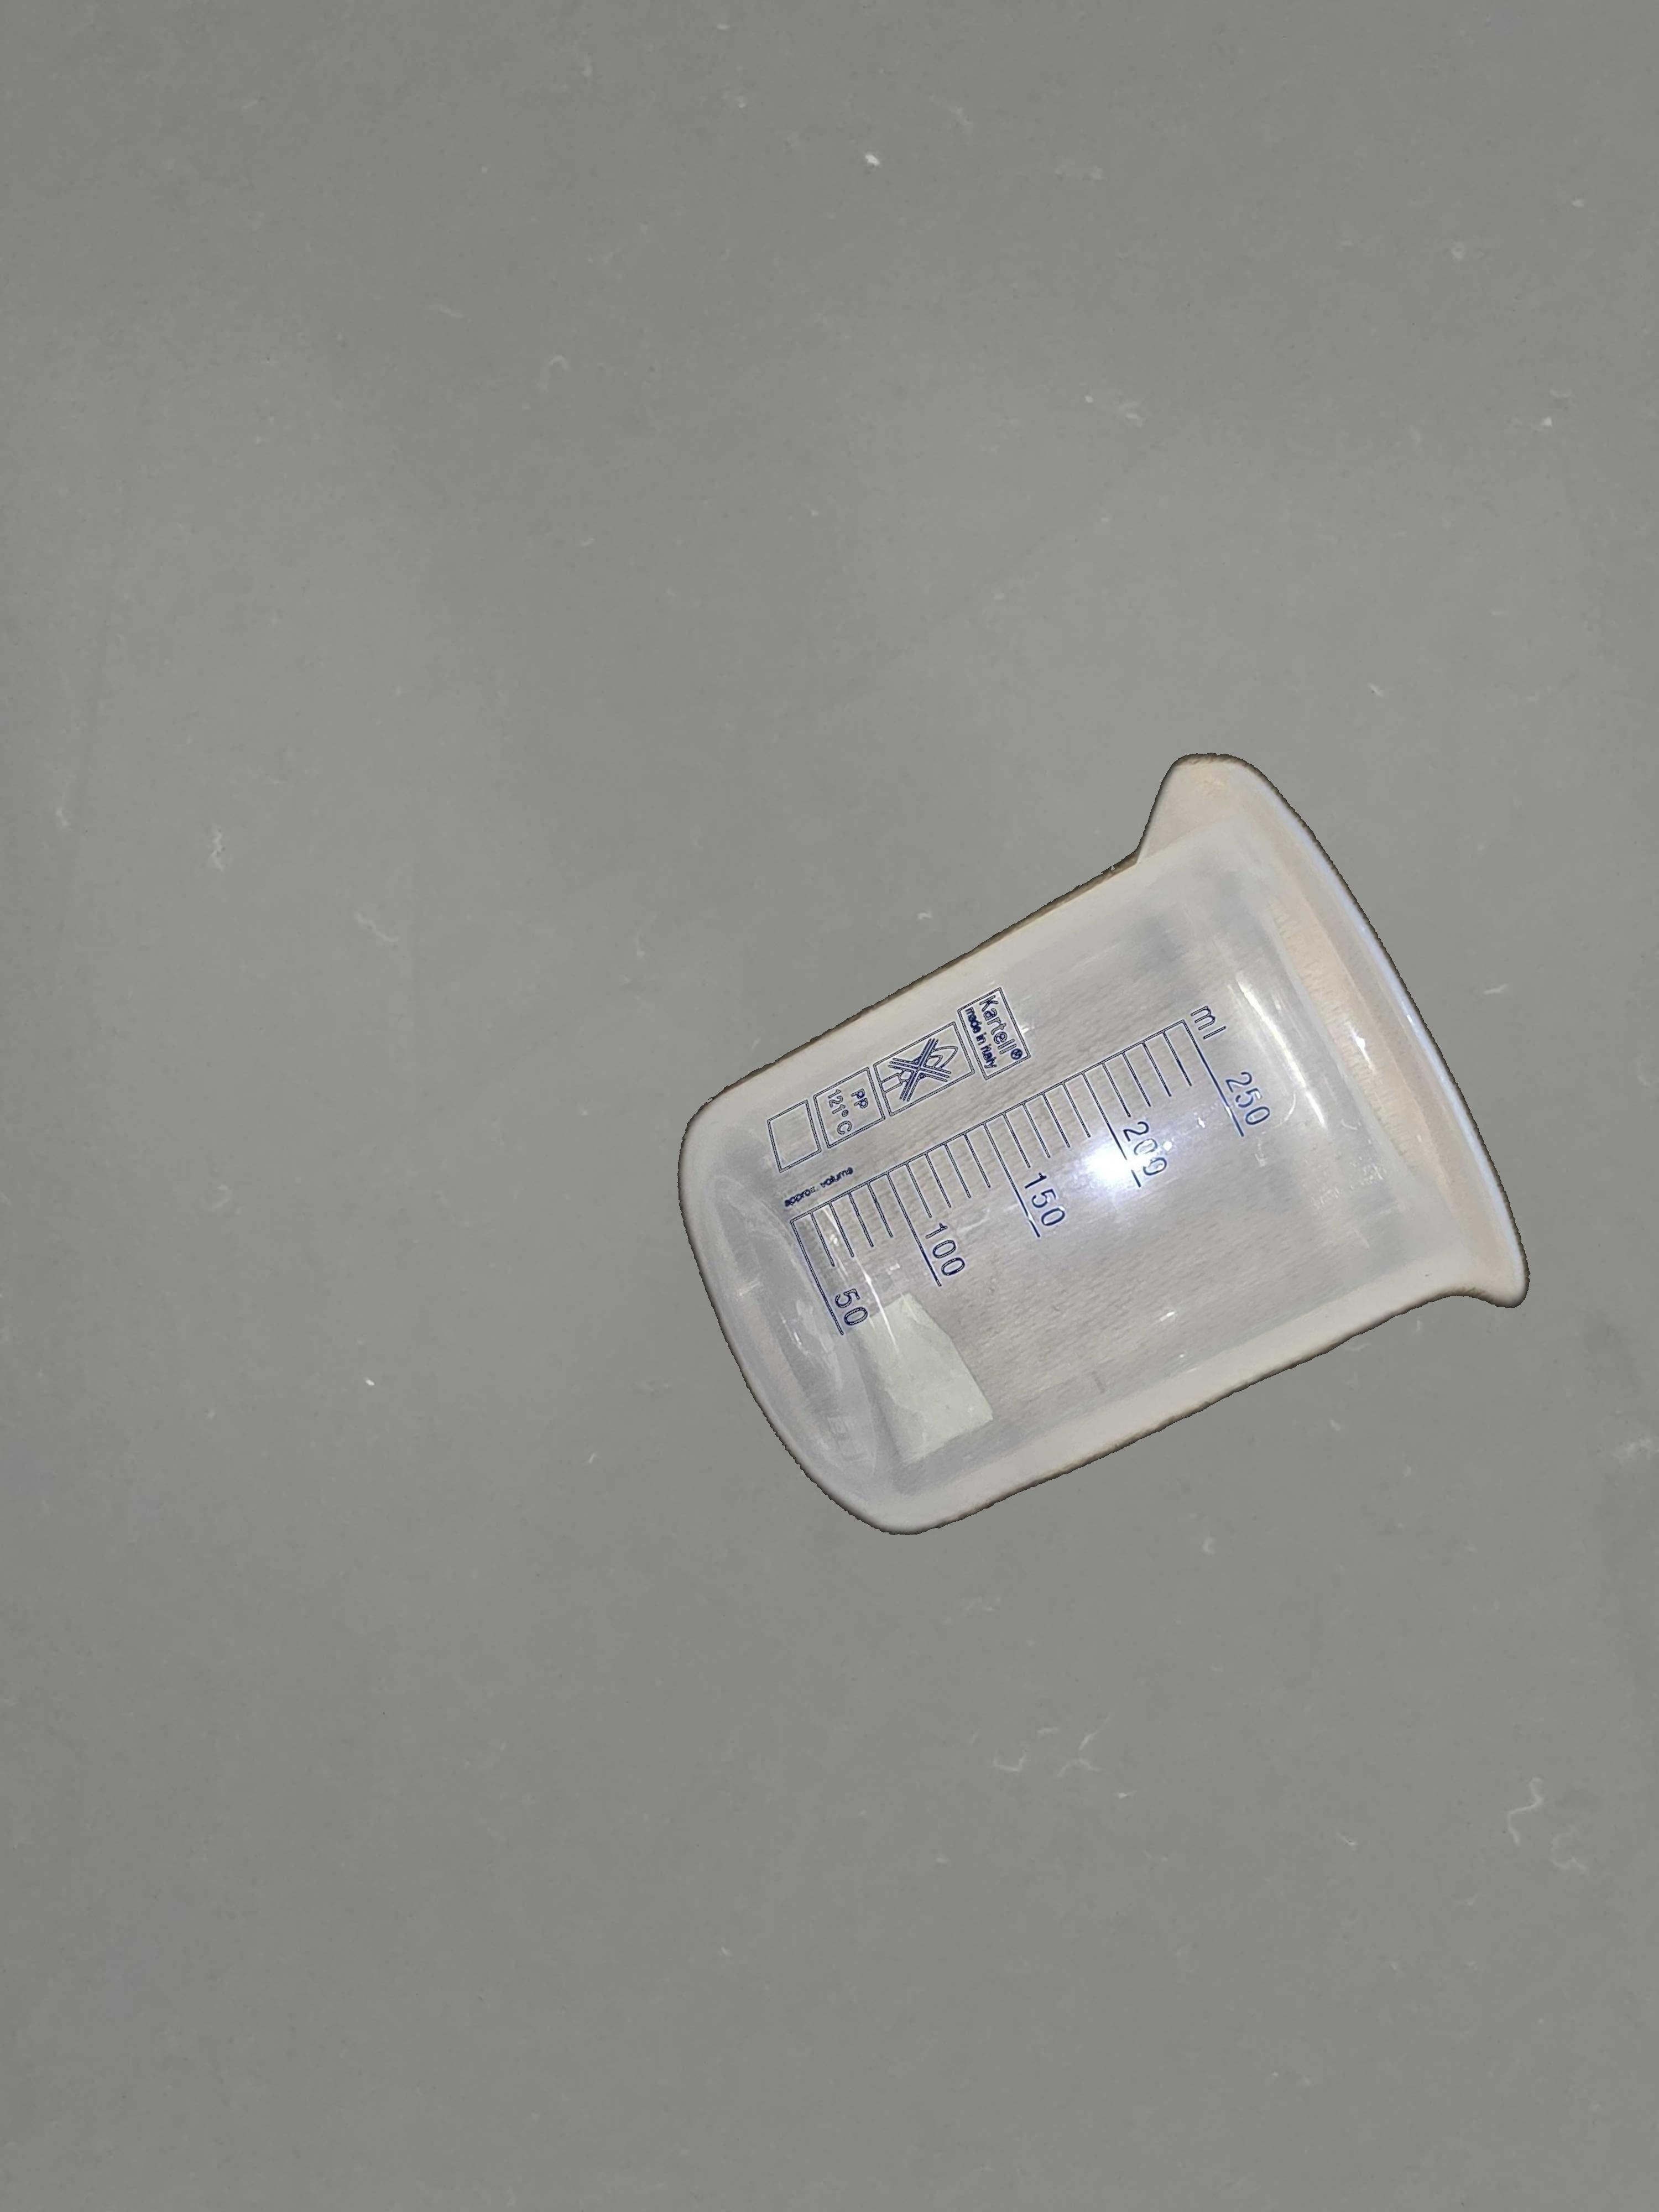becker: (678, 752, 1528, 1536)
